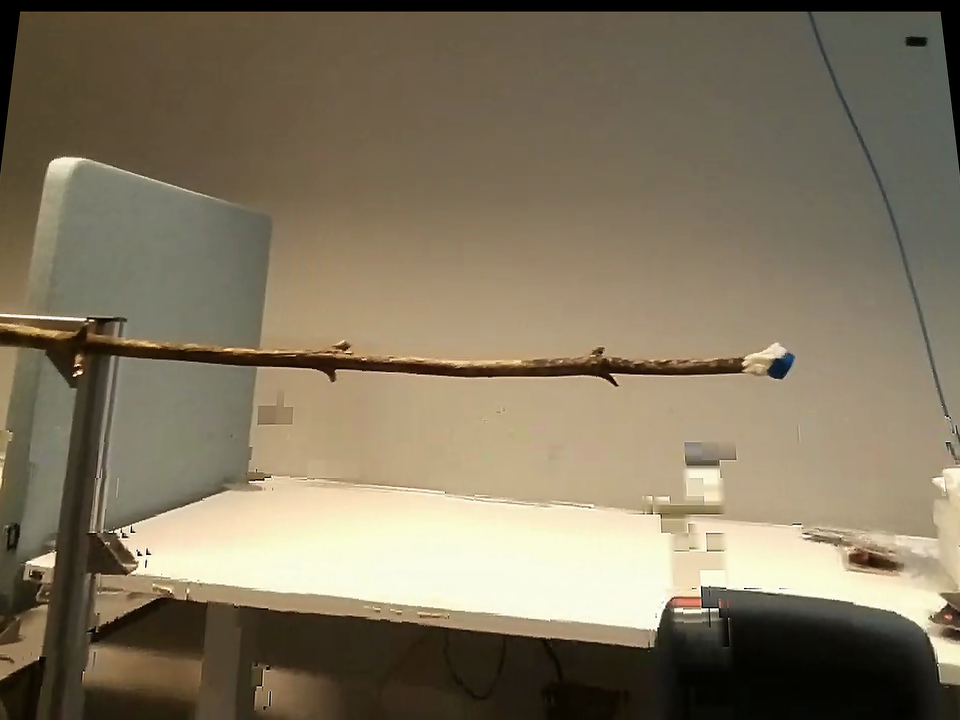branch: (134, 319, 728, 404)
